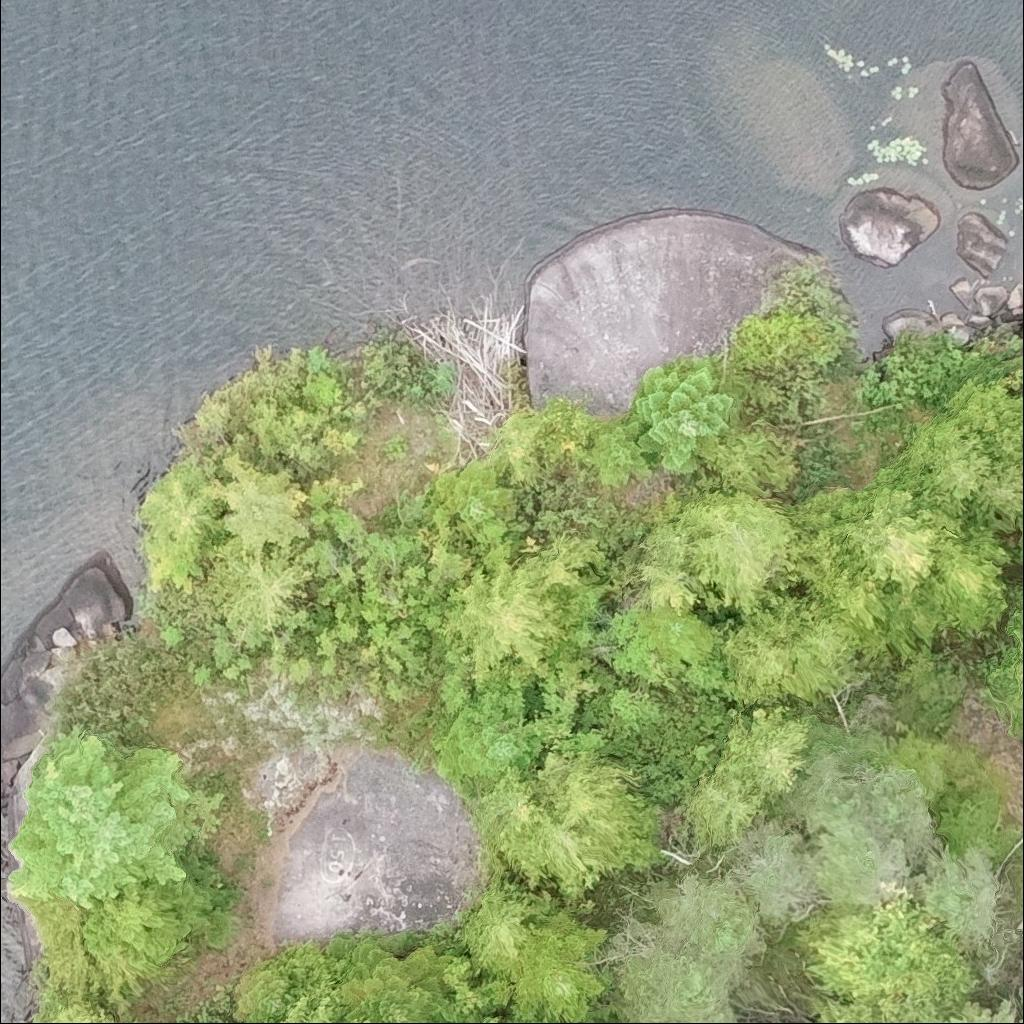crown: (801, 882, 980, 1023), (503, 909, 611, 1023), (653, 868, 768, 969), (322, 938, 455, 1023), (431, 702, 543, 802), (499, 809, 619, 902), (613, 941, 746, 1023), (733, 815, 823, 930), (915, 841, 999, 962), (846, 769, 947, 869), (721, 705, 811, 807), (525, 750, 637, 830), (679, 757, 770, 846), (459, 883, 549, 972), (782, 747, 868, 838), (573, 789, 665, 867), (807, 821, 885, 913), (476, 764, 548, 849), (229, 959, 294, 1023), (939, 998, 1023, 1023), (478, 1013, 557, 1023), (351, 1018, 375, 1023), (1020, 979, 1023, 1005), (736, 1022, 737, 1023)
